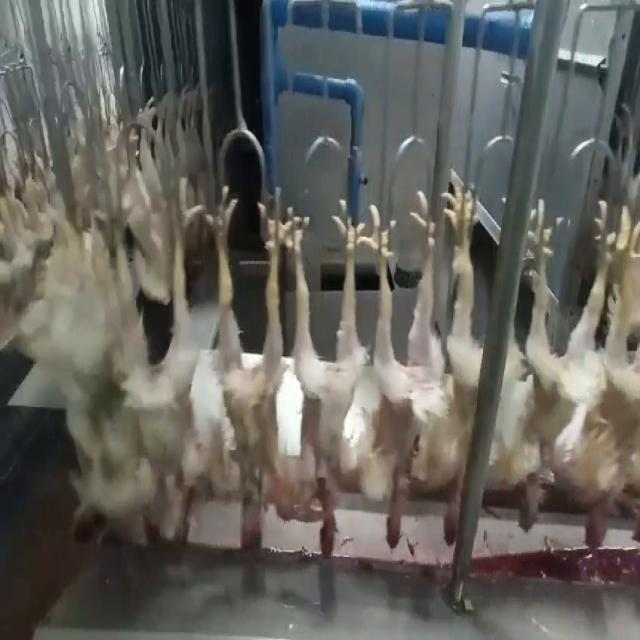chicken: (196, 184, 287, 563), (285, 181, 363, 564), (512, 198, 600, 535), (124, 197, 207, 547), (359, 174, 432, 549), (429, 149, 490, 552), (581, 192, 639, 555)
